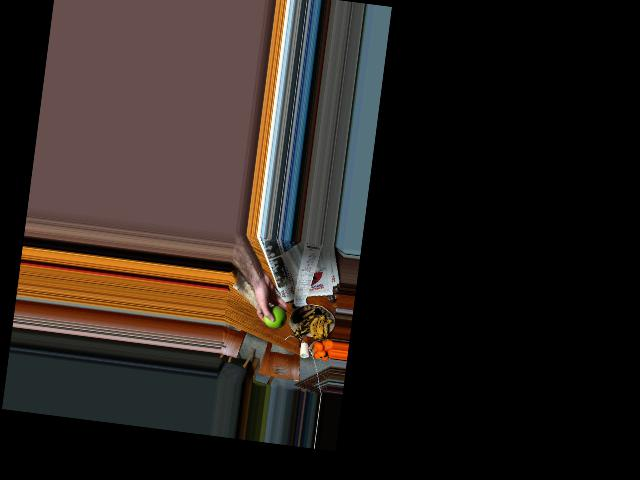apple: (264, 300, 289, 330)
